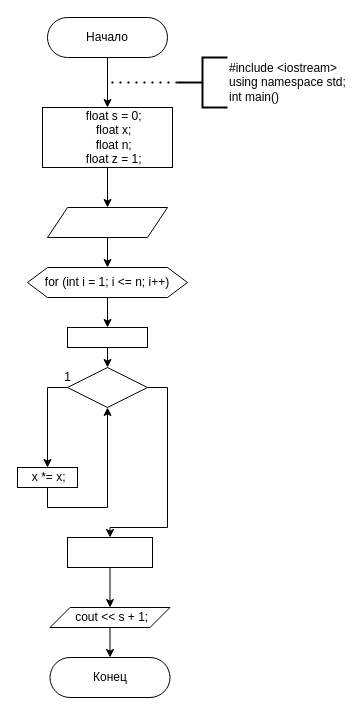
Some shapes in this 364 by 715 pixel diagram are drawn without their labels. Here are the shapes that lost their labels. From the top down, the box of each, then its label:
(46, 206, 168, 238): cin >> n; cin >> x;
(66, 326, 148, 348): z = z * i;
(66, 366, 148, 408): if (i != 1)
(66, 536, 152, 568): s += (x / z);
